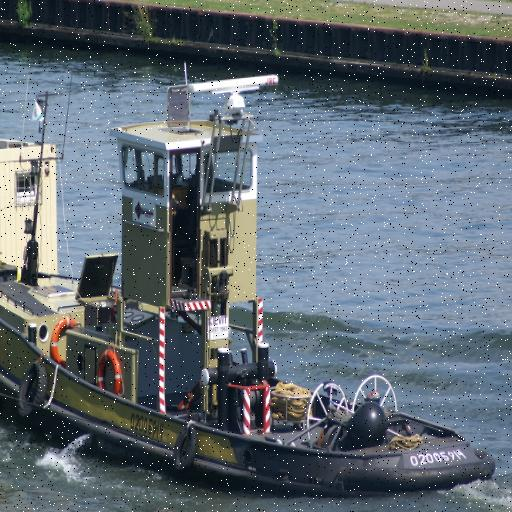tugboat: (1, 71, 498, 505)
